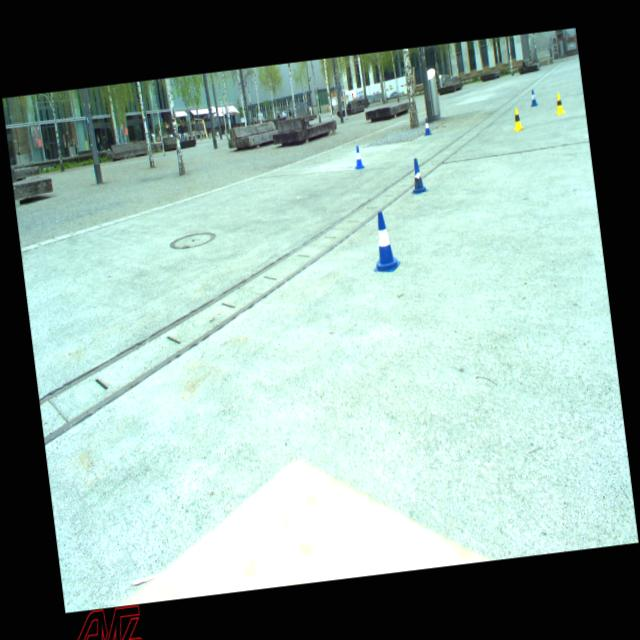blue_cone: (366, 209, 402, 274), (408, 158, 428, 195), (352, 146, 366, 170), (528, 88, 538, 106), (422, 116, 431, 134)
yellow_cone: (510, 107, 524, 132), (552, 92, 566, 115)
